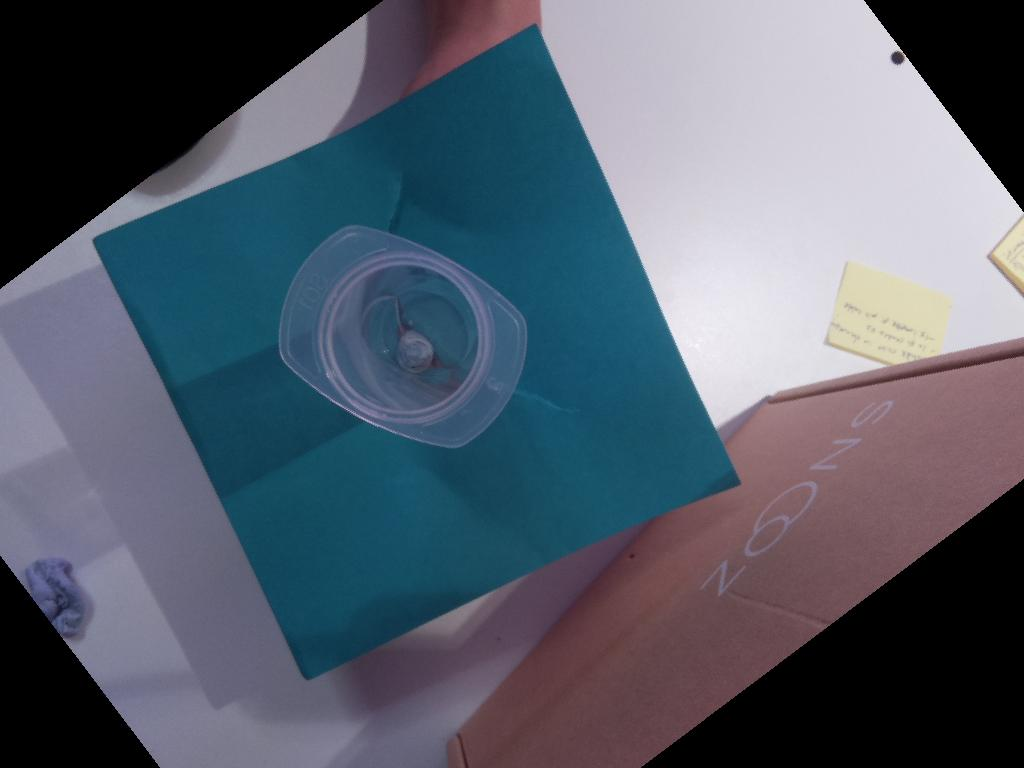clean: (270, 216, 533, 453)
